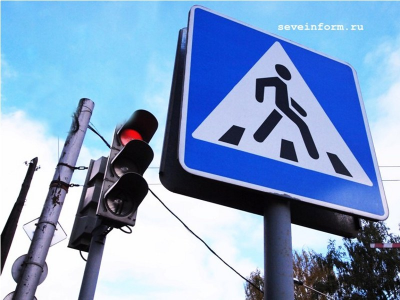crosswalk: (198, 39, 375, 196)
trafficlight_red: (110, 117, 152, 220)
